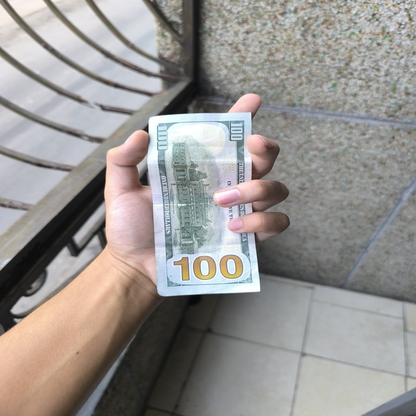one_hundred-back: (146, 110, 261, 302)
